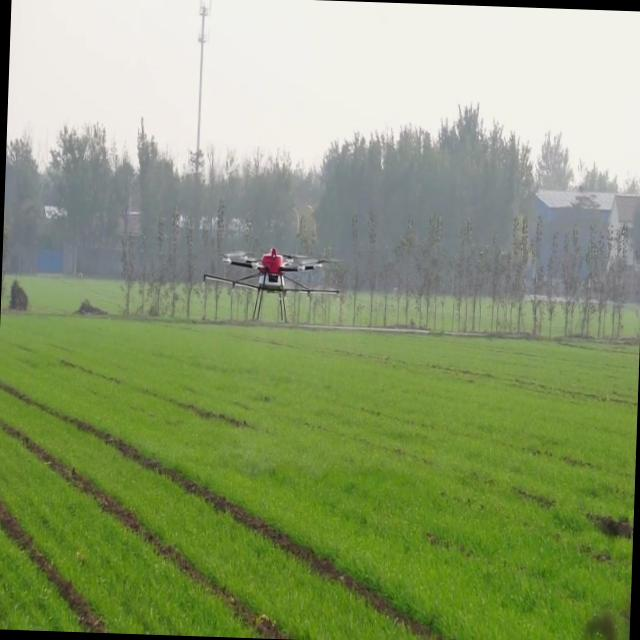drone: (200, 242, 342, 326)
